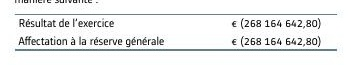table: (0, 0, 351, 65)
